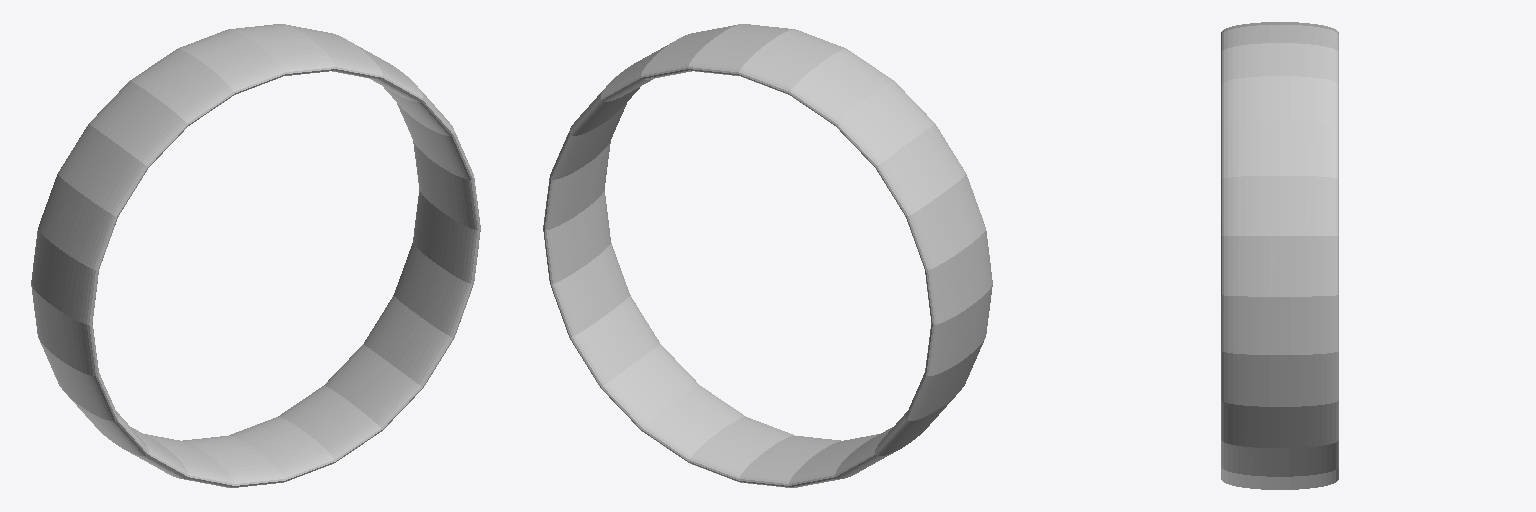
File: ring.obj
3 views of the same model, side by side, from view 1: azimuth 30°, elevation 25°; view 2: azimuth 150°, elevation 25°; view 3: azimuth 270°, elevation 25° (orthographic).
Visible parts, largest first — view 1: obj_0; view 2: obj_0; view 3: obj_0.
Boxes of the visible parts, x1=… form: obj_0: x1=31, y1=24, x2=480, y2=487; obj_0: x1=543, y1=24, x2=992, y2=487; obj_0: x1=1221, y1=22, x2=1338, y2=489.
Bounding box in the file's own units: 20 × 20 × 5.